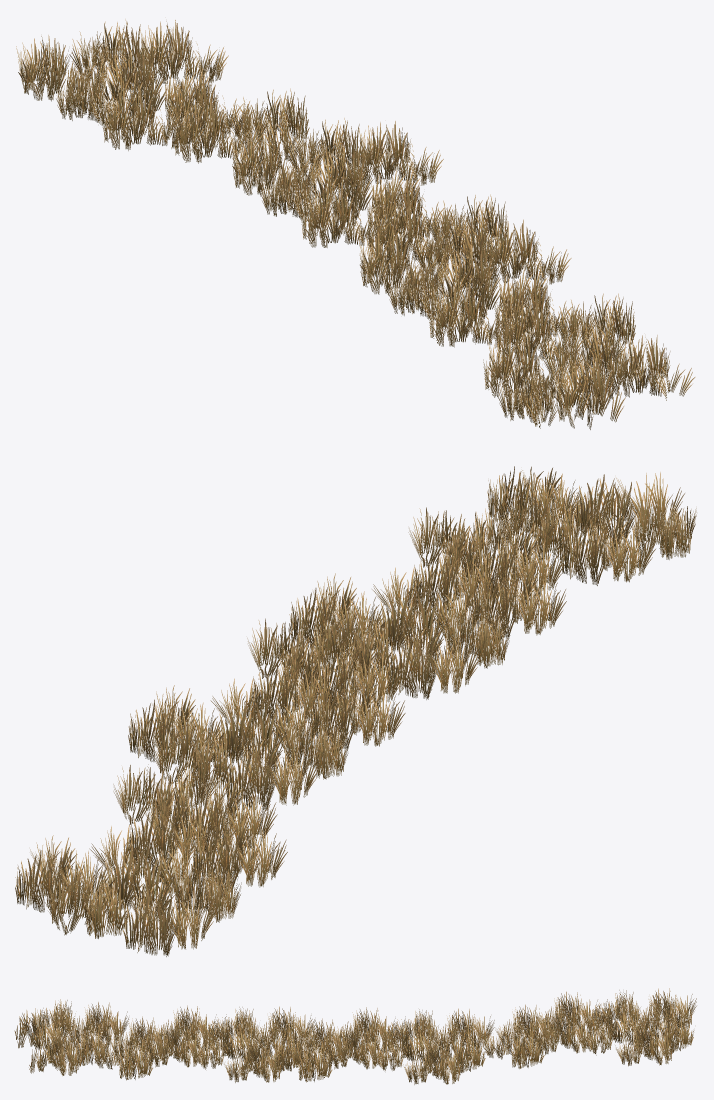
Rendered from Area_15_21.fbx.
3 renders of one model, top to bottom at view 1: azimuth 30°, elevation 25°; view 2: azimuth 150°, elevation 25°; view 3: azimuth 270°, elevation 25°, orthographic. The views are drawn at different scales.
Visible parts, largest first — view 1: Area_15_21; view 2: Area_15_21; view 3: Area_15_21.
Boxes of the visible parts, x1,y1,x2,y2 form: Area_15_21: [16, 19, 695, 429]; Area_15_21: [15, 466, 696, 956]; Area_15_21: [14, 988, 696, 1084].
Bounding box in the file's own units: 1333 × 238 × 4879.
1 material, 1 textured.
